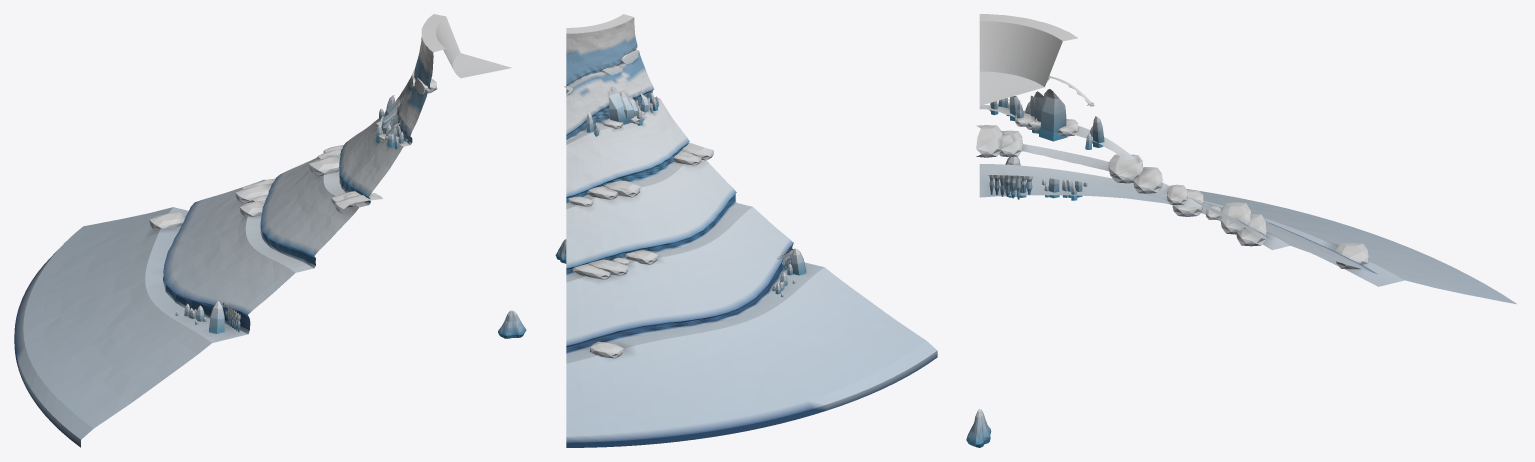
Rendered from glacier-s3-BPjrimb6.glb.
3 renders of one model, left to right at view 1: azimuth 30°, elevation 25°; view 2: azimuth 150°, elevation 25°; view 3: azimuth 270°, elevation 25°, orthographic. The views are drawn at different scales.
Parts seen in each view (by area): view 1: sc_landmark_2, sc_berg_1; view 2: sc_landmark_2; view 3: sc_landmark_2, sc_berg_1.
Part boxes in pixels (x1,y1,x2,y2): sc_landmark_2: [14, 14, 511, 447]; sc_berg_1: [498, 310, 526, 338]; sc_landmark_2: [564, 14, 937, 447]; sc_landmark_2: [976, 14, 1516, 304]; sc_berg_1: [966, 409, 991, 447].
Bounding box in the file's own units: 429 × 286 × 370.
